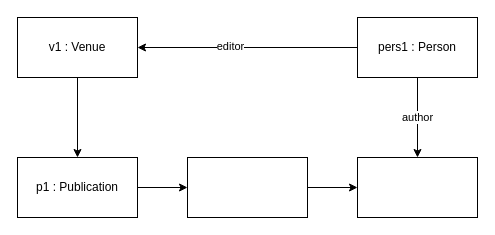
Some shapes in this 495 by 235 pixel diagram are drawn without their labels. The shapes that lost their labels are listed below. From the top down, each one's centre as x and y in pixels, then its label:
(x=247, y=187): c1 : Citation
(x=417, y=187): p2 : Publication
